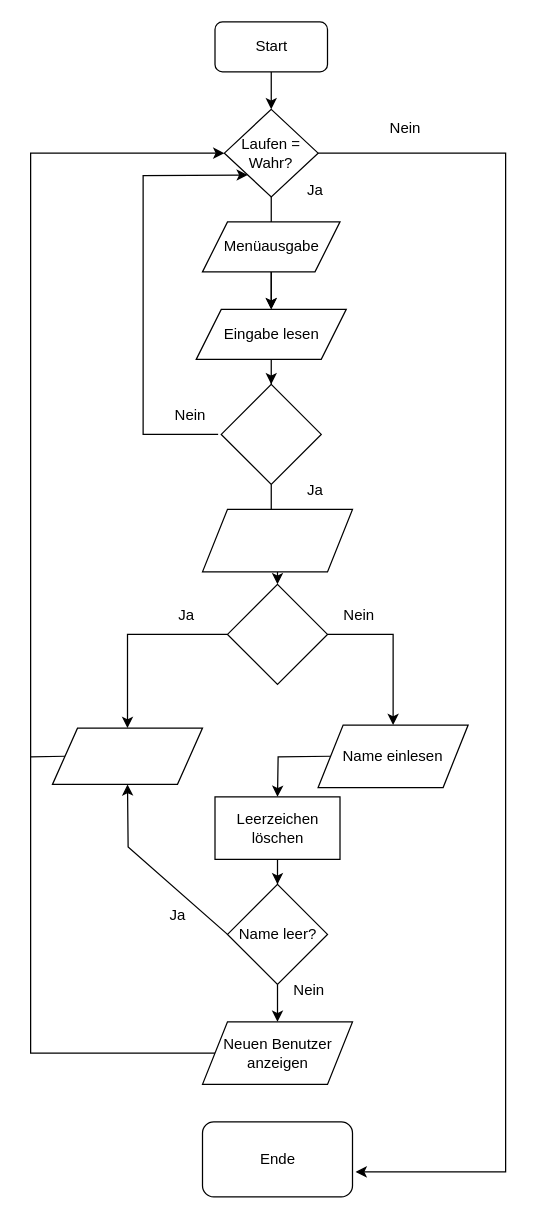
Some shapes in this 538 by 1219 pixel diagram are drawn without their labels. Each missing label, with the box of its shape:
Fehlerausgabe: (51, 727, 202, 784)
ID einlesen: (201, 508, 352, 572)
Ist ID leer?: (226, 583, 328, 684)
Menüauswahl = 1?: (220, 383, 321, 484)
